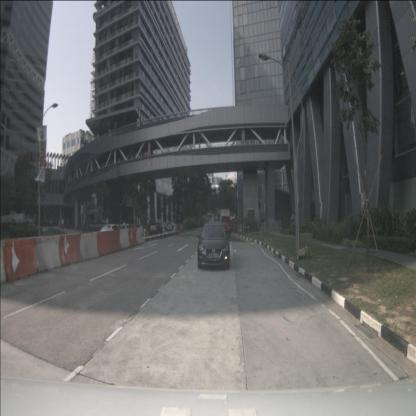human-pedestrian-adult: (291, 209, 296, 238), (124, 222, 127, 235), (62, 217, 64, 232), (123, 220, 125, 235), (83, 218, 85, 232)
movable_object-barrier: (3, 238, 38, 284), (35, 236, 63, 274), (59, 234, 83, 266), (80, 232, 100, 262), (97, 230, 112, 258), (109, 230, 121, 252), (119, 228, 130, 250), (129, 228, 138, 247), (136, 228, 144, 244)
movable_object-trafficcone: (142, 231, 146, 242)
vehicle-car: (197, 222, 230, 269), (100, 224, 122, 242), (149, 223, 163, 236), (167, 221, 175, 232), (209, 218, 215, 232)
vehicle-truck: (219, 209, 230, 235)
